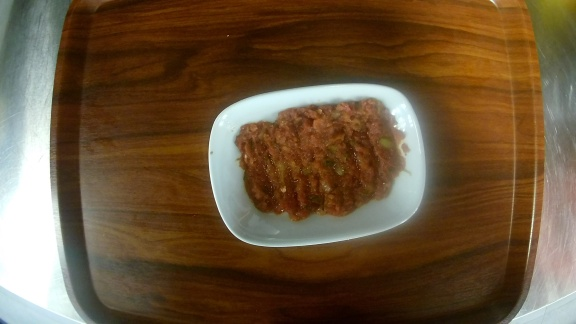acilimeze: (208, 83, 427, 249)
